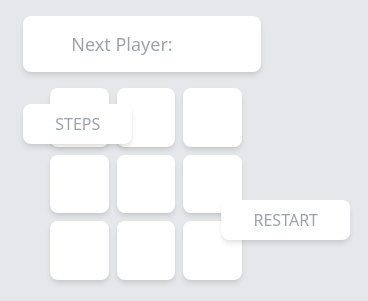
it: only on mobile should display a button to toggle between board and list of steps
Step 1. Click the button "steps" → (78, 124), box top-left (23, 104), bottom-right (132, 144)
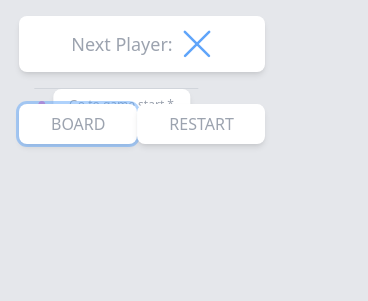
expect the button "board" is shown: met, box top-left (18, 104), bottom-right (137, 144)
